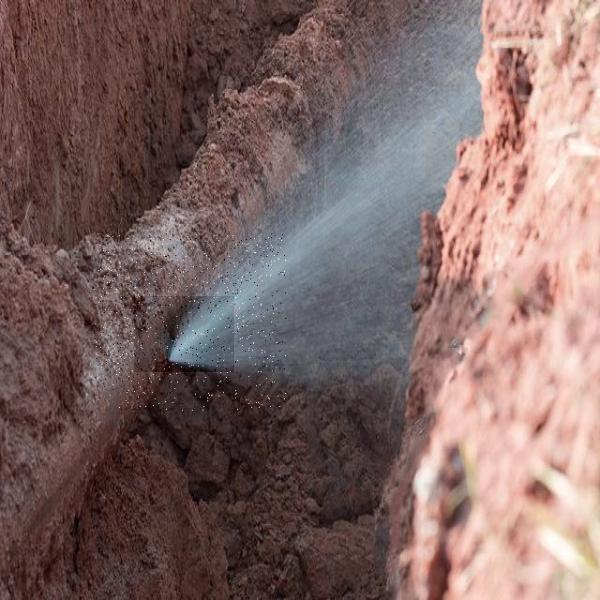water: (134, 296, 234, 372)
